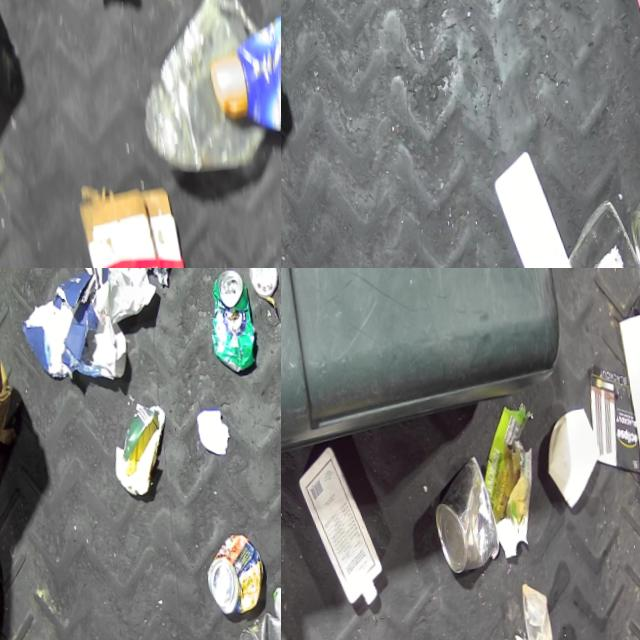can: (428, 444, 501, 568), (201, 524, 266, 613), (203, 268, 257, 370), (622, 150, 640, 268), (231, 602, 281, 640), (246, 268, 278, 294)
milk_jug: (293, 433, 384, 610), (487, 141, 578, 268)
non_white_jug: (203, 0, 281, 141)
